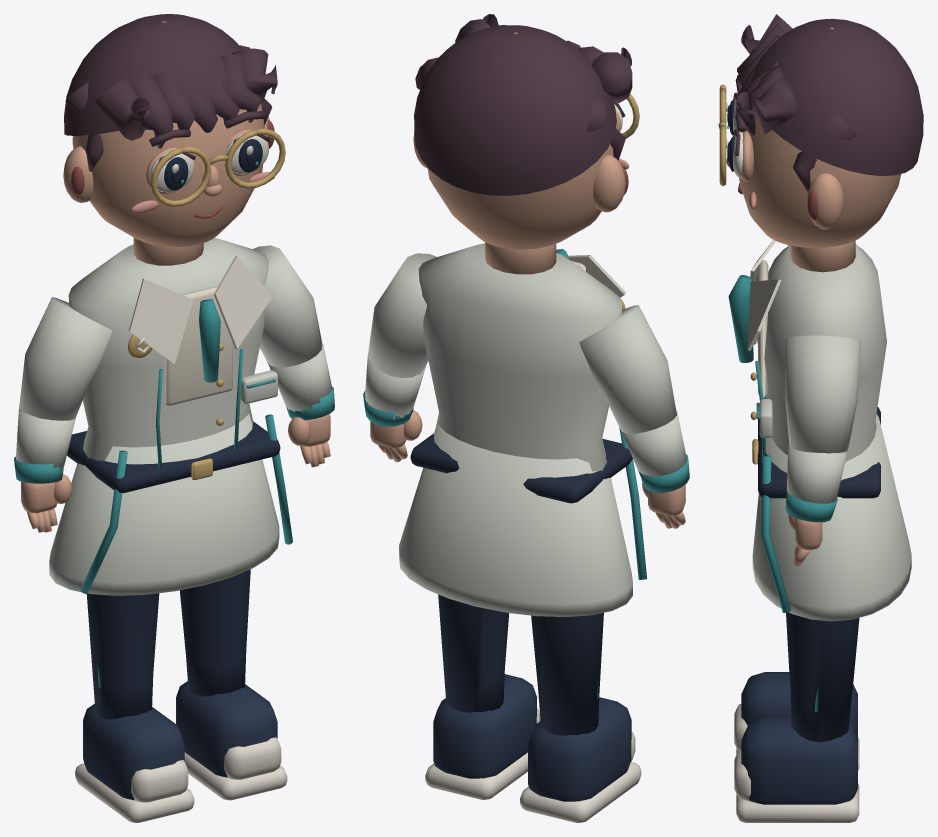
Rendered from blocky_character_c.glb.
3 views of the same model, side by side, from view 1: azimuth 30°, elevation 25°; view 2: azimuth 150°, elevation 25°; view 3: azimuth 270°, elevation 25° (orthographic).
Visible parts, largest first — view 1: figure.002; view 2: figure.002; view 3: figure.002.
Part boxes in pixels (x1,y1,x2,y2): figure.002: (14, 14, 334, 822); figure.002: (363, 14, 689, 822); figure.002: (718, 14, 923, 822).
Size of the model in its own units: 1.09 by 2.5 by 0.6125.
